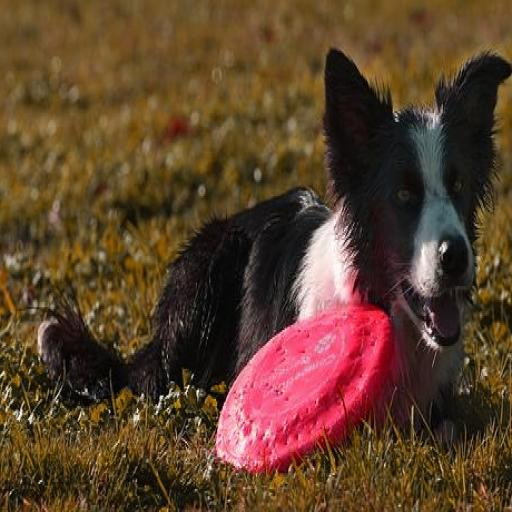dog_face: (316, 36, 507, 345)
